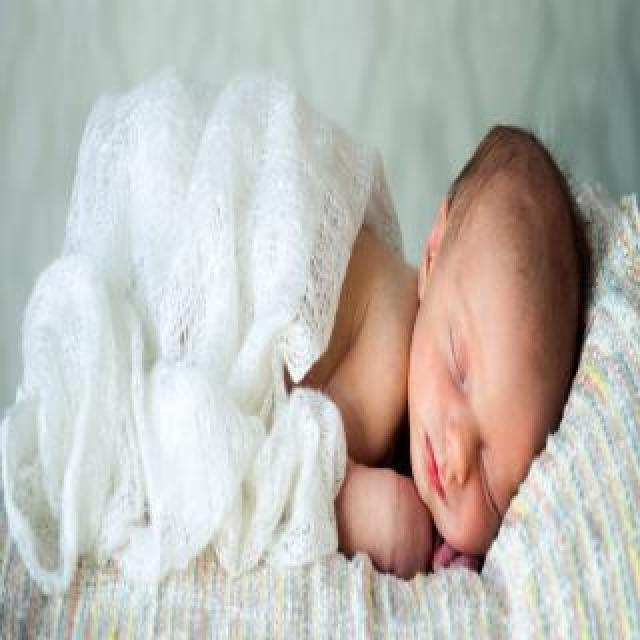baby: (58, 79, 590, 569)
